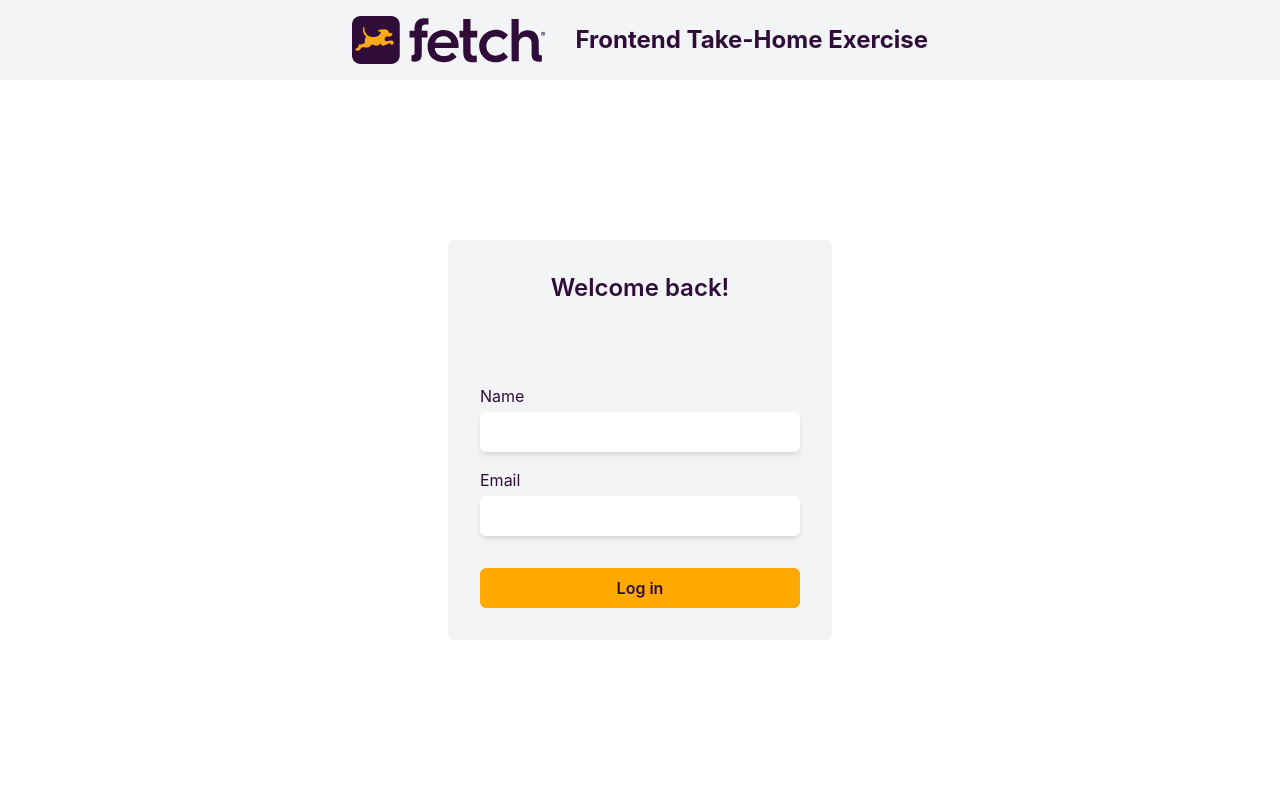
Test case: Login form data › should be invalid for name 'a' and email 'a@a.a'
Type "a" into the field with id "name".
click(640, 432); type("a")  # box [480, 412, 800, 452]
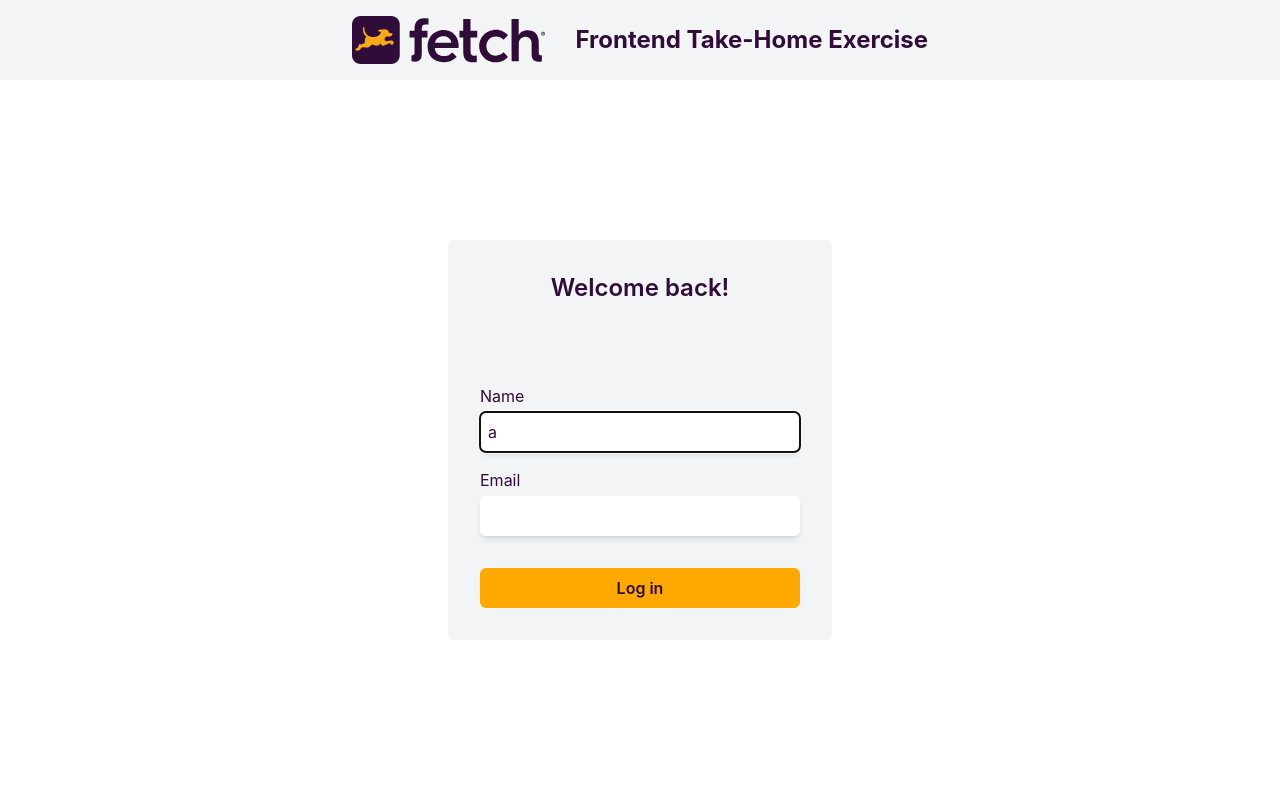
Type "a@a.a" into the field with id "email".
click(640, 516); type("a@a.a")  # box [480, 496, 800, 536]
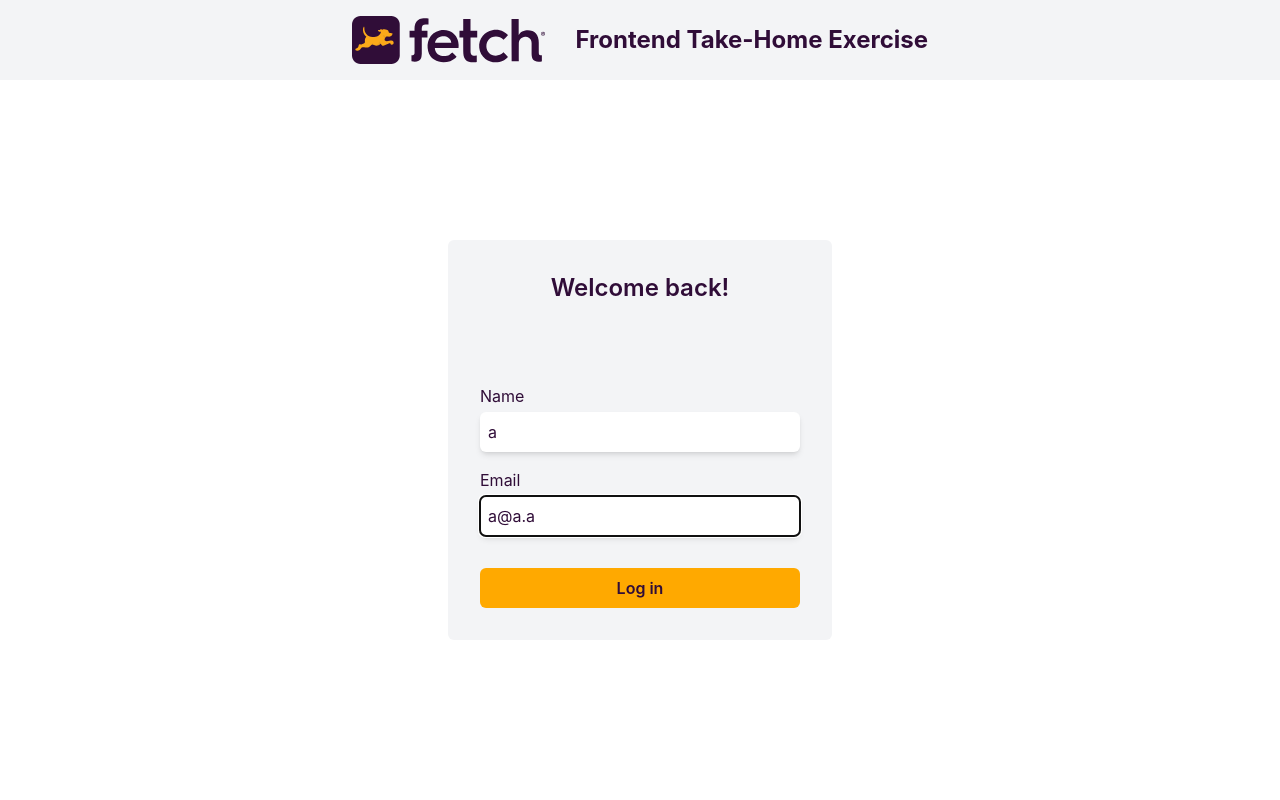
Click the button "Log in".
click(640, 588)  # box [480, 568, 800, 608]
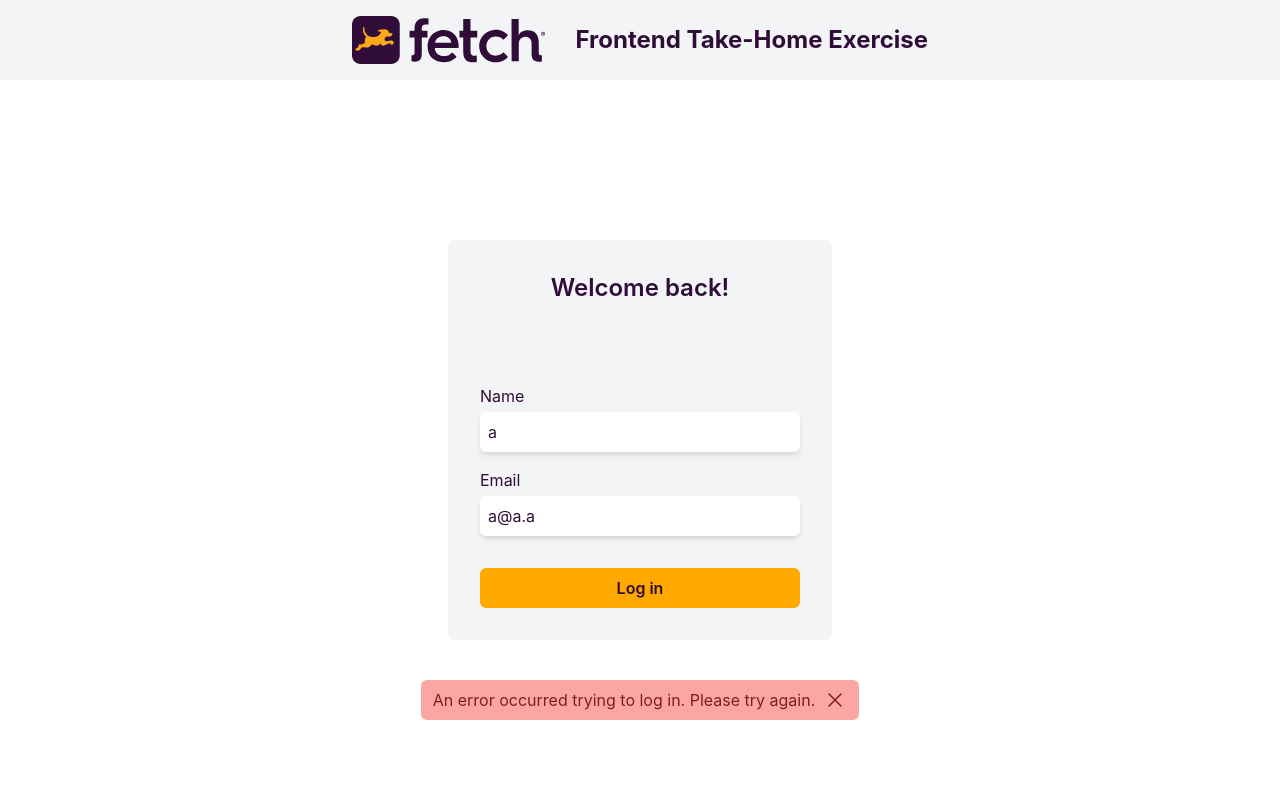
Expected: the text "An error occurred trying to log in. Please try again" is shown, [433, 690, 816, 710]
